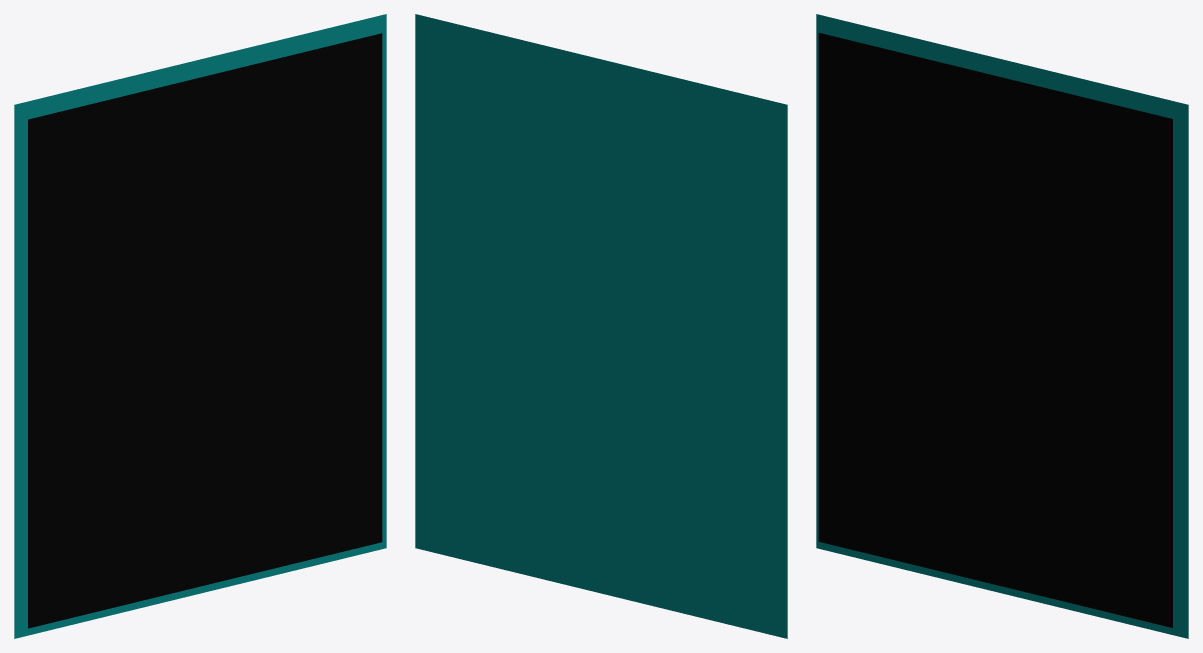
File: Lightbulb plakat.fbx
The picture shows the model from 3 angles, left to right: view 1: azimuth 30°, elevation 25°; view 2: azimuth 150°, elevation 25°; view 3: azimuth 330°, elevation 25°; orthographic projection.
Parts seen in each view (by area): view 1: pPlane12; view 2: pPlane12; view 3: pPlane12.
Part boxes in pixels (bbox=[...]): pPlane12: bbox=[14, 14, 386, 638]; pPlane12: bbox=[415, 14, 787, 638]; pPlane12: bbox=[816, 14, 1188, 638].
Size of the model in its own units: 142 by 195 by 3.76.
